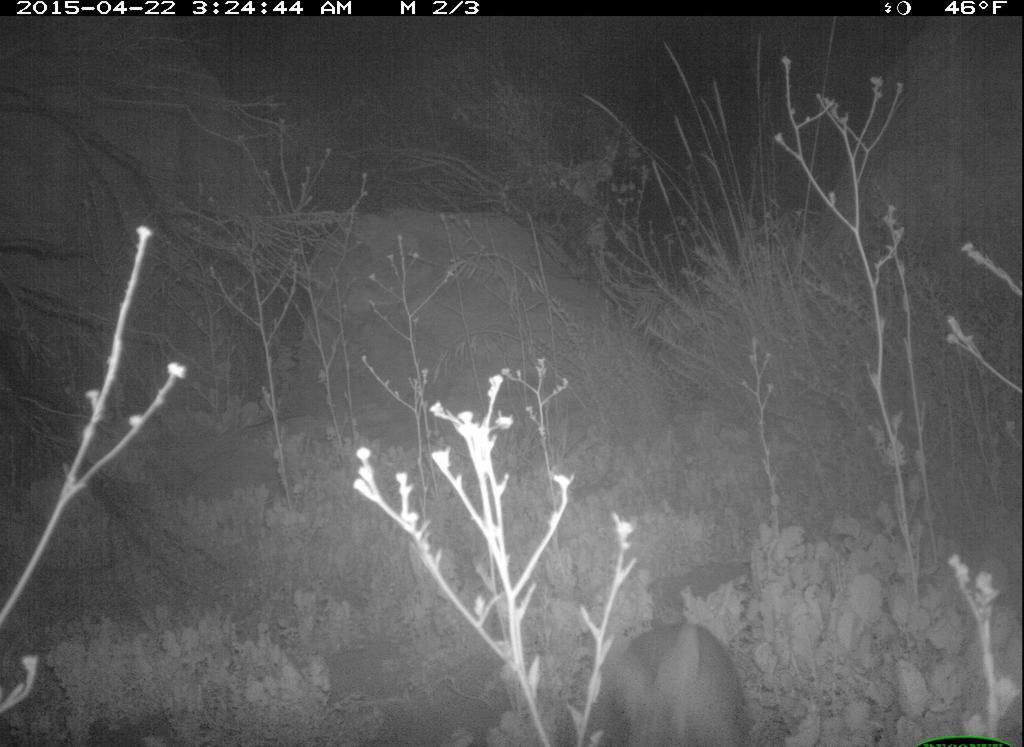rabbit: (592, 615, 754, 745)
